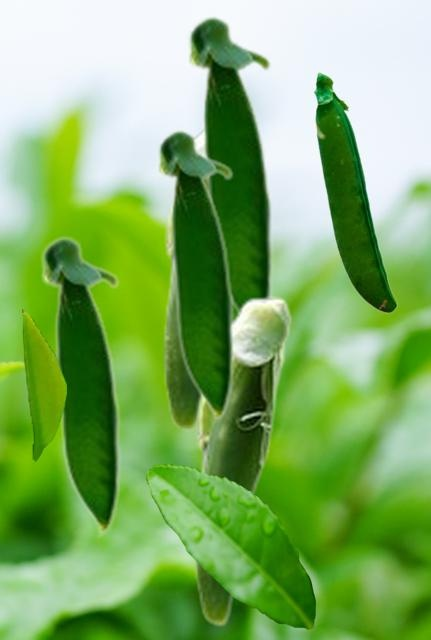pea: (193, 296, 292, 626), (162, 109, 258, 431), (185, 13, 273, 314), (39, 234, 120, 539), (155, 127, 234, 425), (313, 71, 396, 312)
